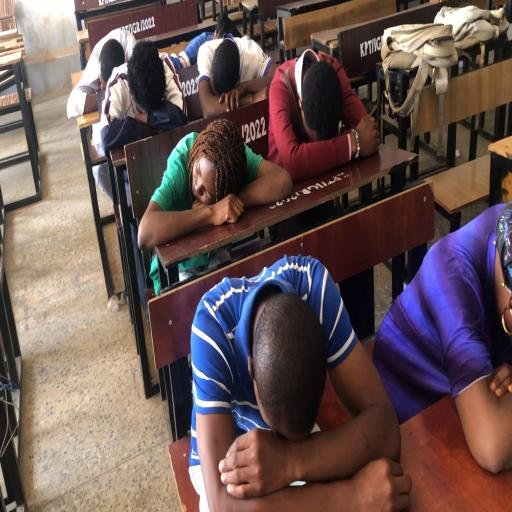Sleeping: (190, 256, 408, 508), (178, 236, 366, 507), (372, 174, 512, 475), (150, 116, 378, 260), (138, 115, 293, 256), (98, 26, 282, 134), (266, 42, 383, 184)
